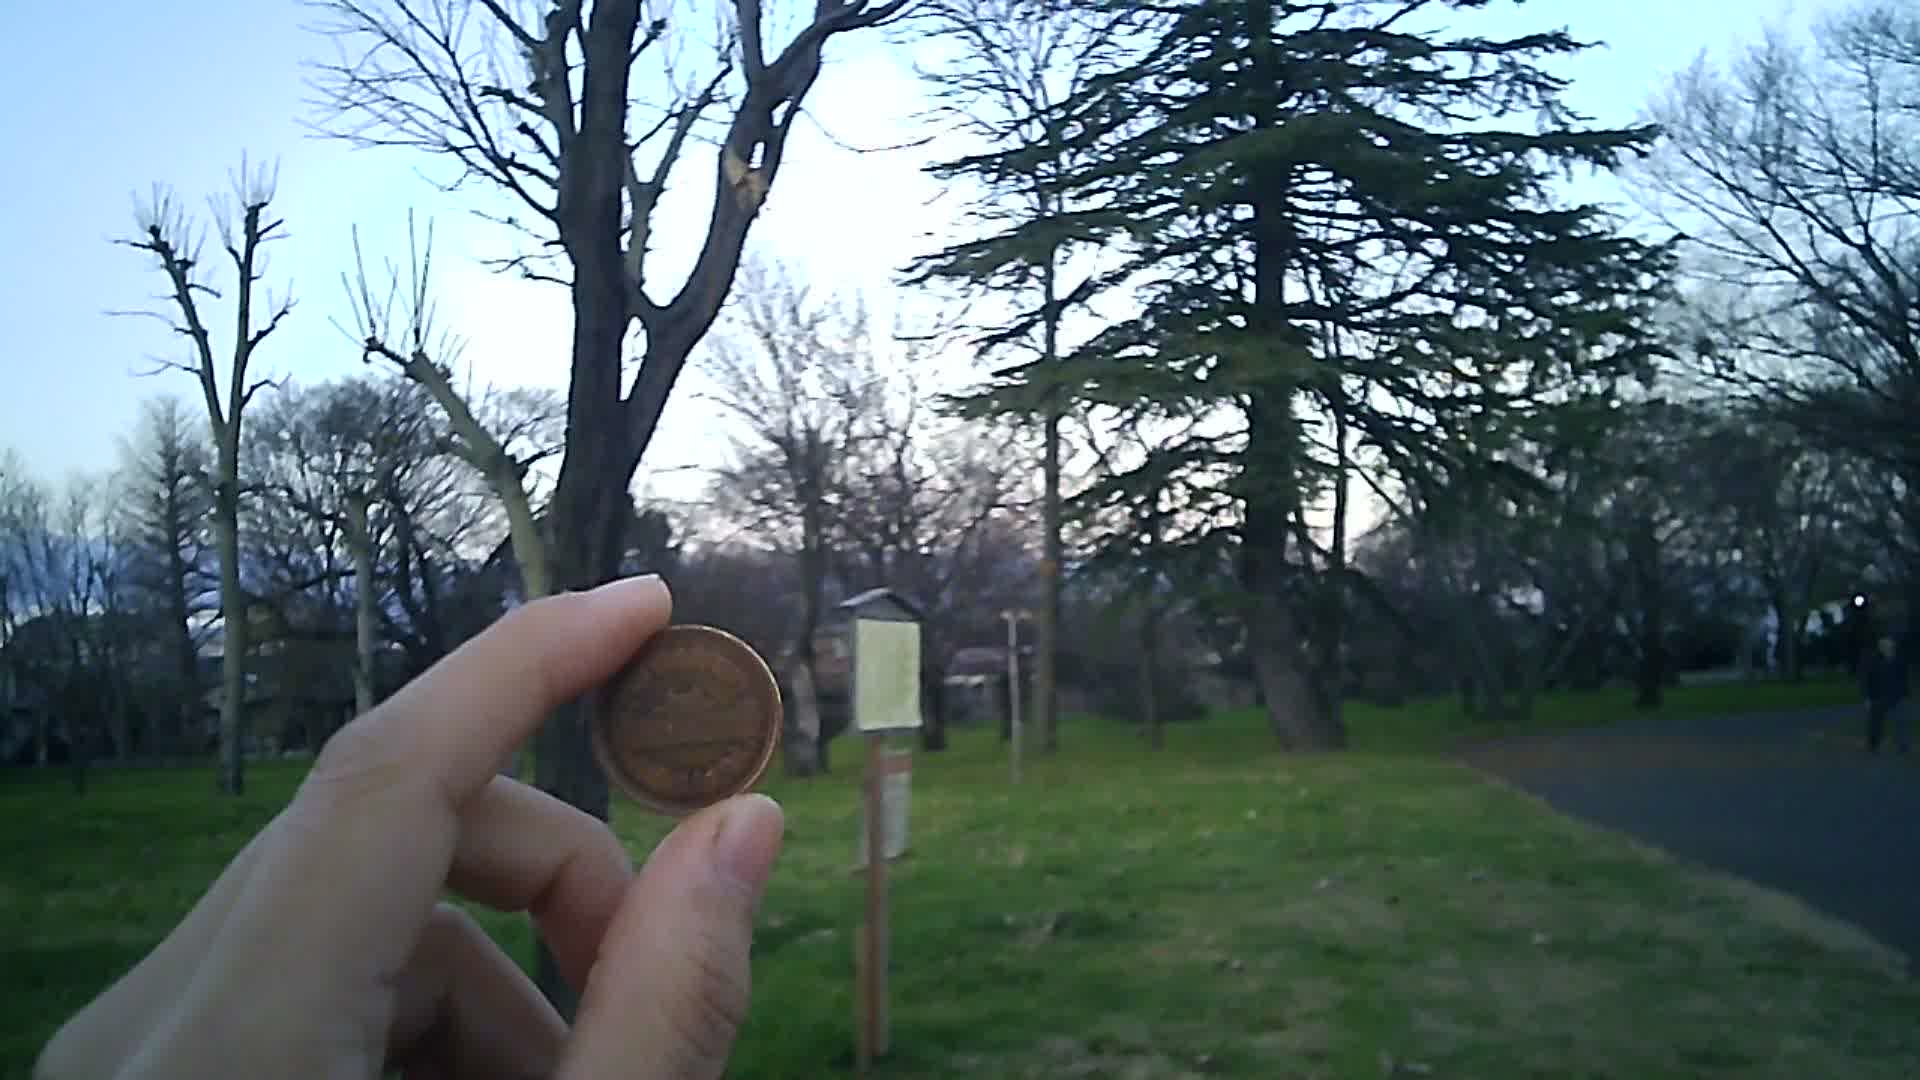10 Yen: (582, 628, 778, 816)
